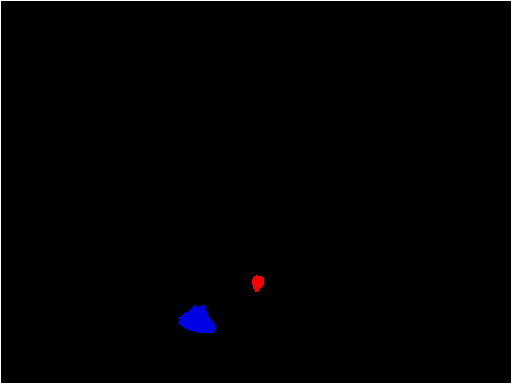chipped: (185, 310, 212, 329)
detached: (249, 276, 265, 288)
